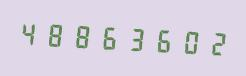eight: (43, 15, 68, 53), (69, 17, 94, 54)
four: (17, 14, 42, 51)
six: (95, 18, 120, 55), (147, 21, 172, 58)
three: (121, 19, 146, 57)
two: (199, 24, 224, 61)
zero: (173, 22, 198, 59)
